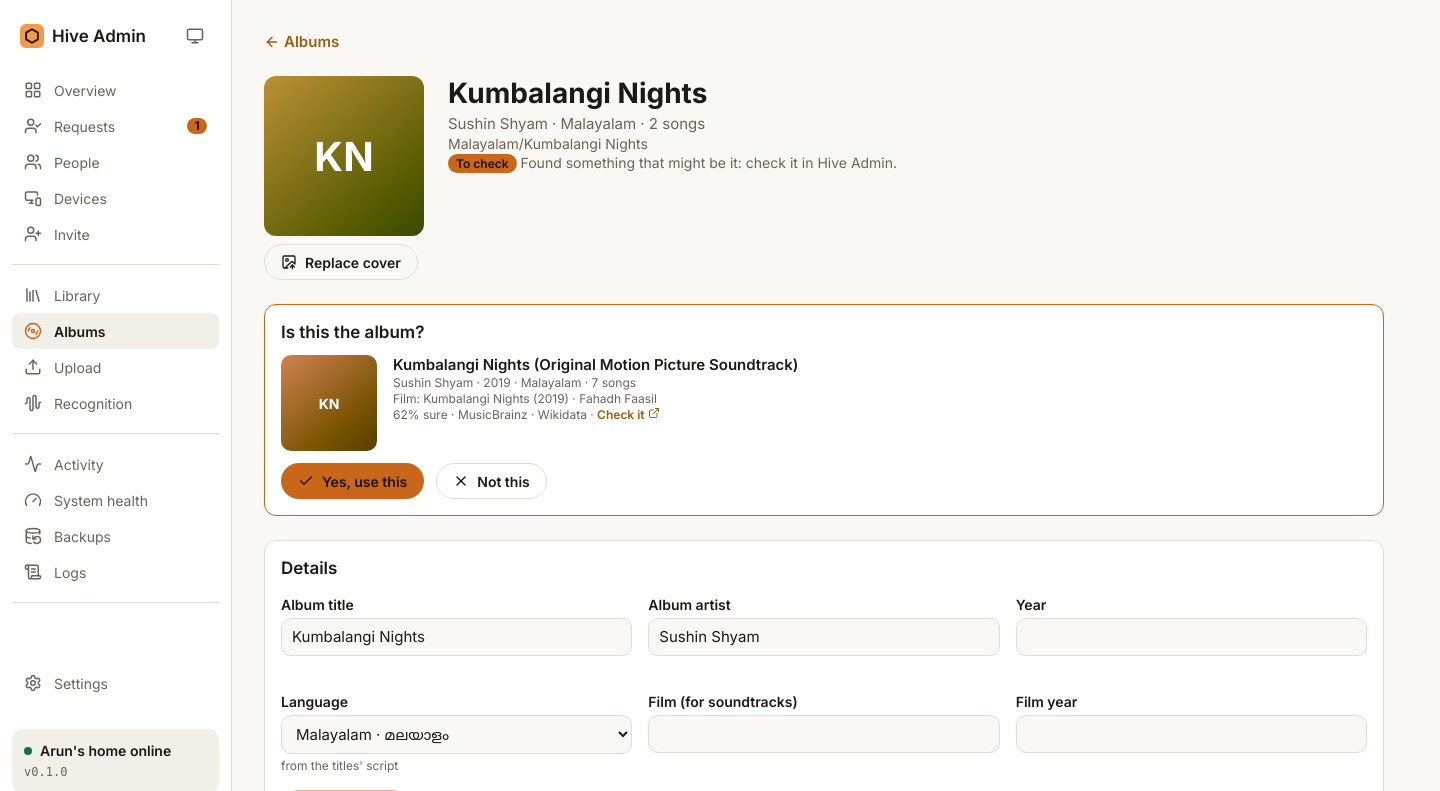
Albums page › accepts a match
What coordinates should you click on to do the following:
click the button "Yes, use this"
I would click on:
 (353, 481)
Its box is [281, 463, 424, 499].
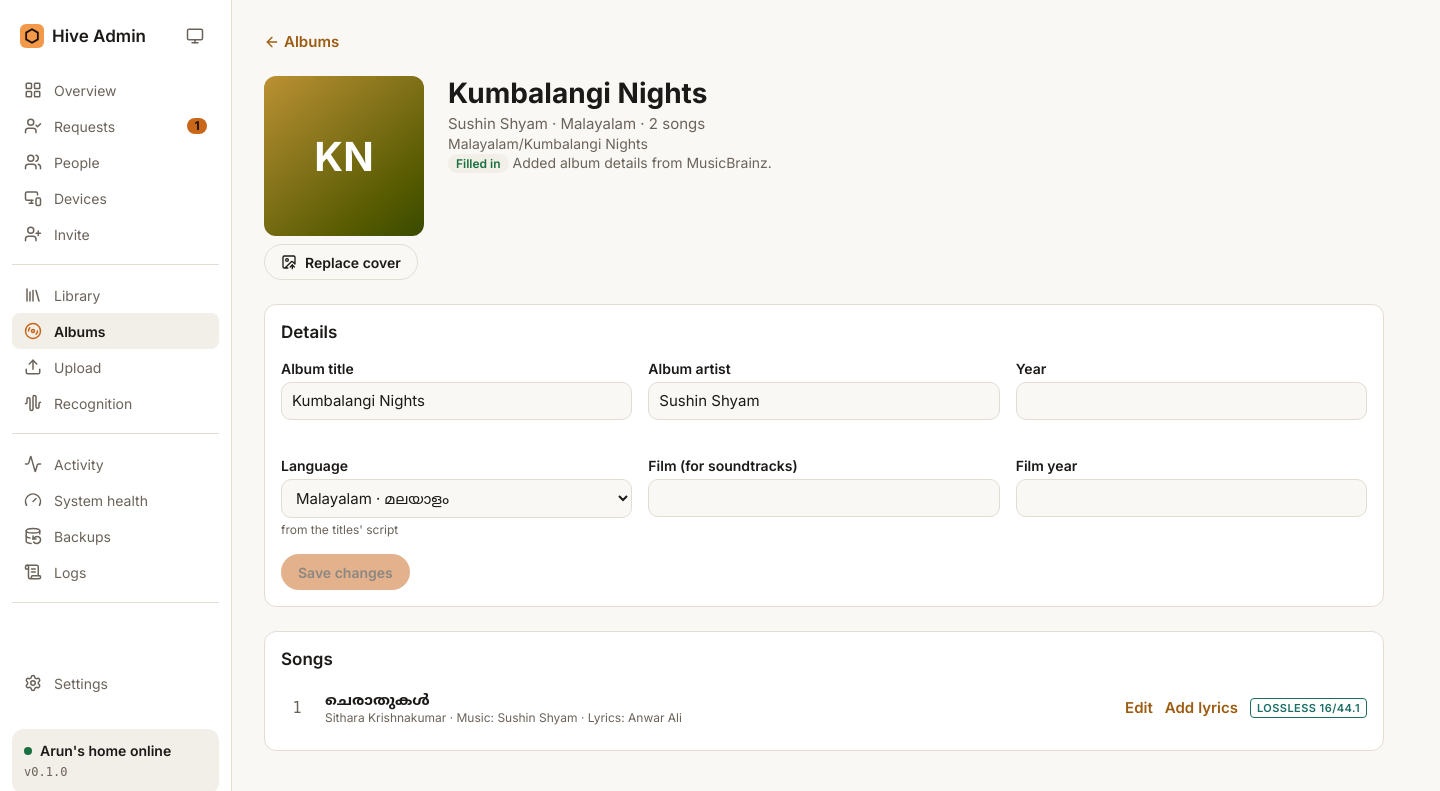
Now the text "Filled in" is shown, box [448, 154, 509, 173]
Now the heading "Is this the album?" is gone
